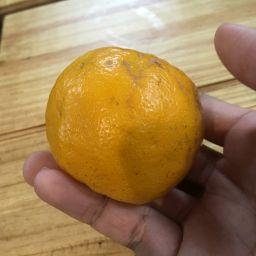Ripe: (44, 47, 205, 205)
